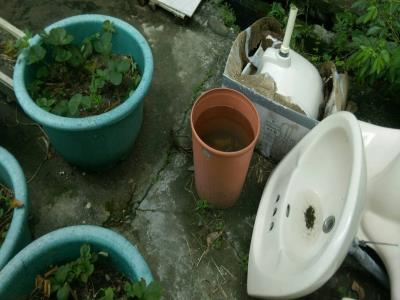bowl: (247, 110, 369, 295)
box: (222, 15, 350, 166)
bucket: (187, 86, 262, 211)
